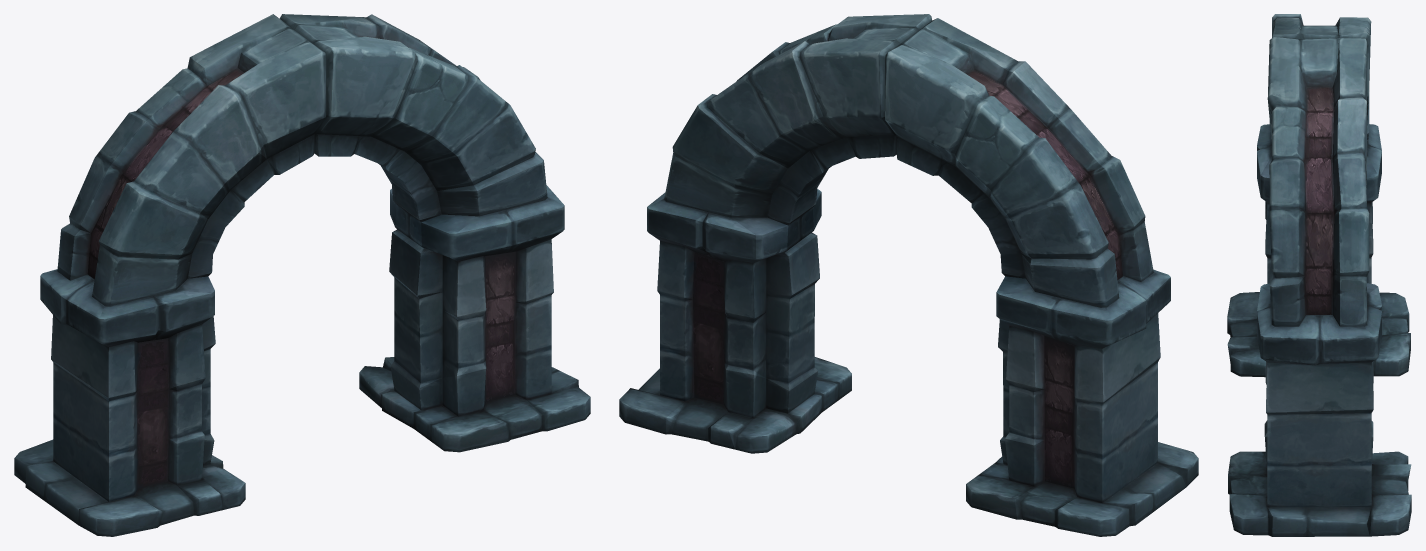
File: gate_1.obj
3 renders of one model, left to right at view 1: azimuth 30°, elevation 25°; view 2: azimuth 150°, elevation 25°; view 3: azimuth 270°, elevation 25°, orthographic. The views are drawn at different scales.
Visible parts, largest first — view 1: dungeon_arch_Mesh; view 2: dungeon_arch_Mesh; view 3: dungeon_arch_Mesh.
Part boxes in pixels (box(x1,y1,x2,y2)): dungeon_arch_Mesh: box(14, 14, 590, 536); dungeon_arch_Mesh: box(619, 14, 1198, 536); dungeon_arch_Mesh: box(1227, 14, 1411, 536).
Bounding box in the file's own units: 3.5 × 2.74 × 1.19.
